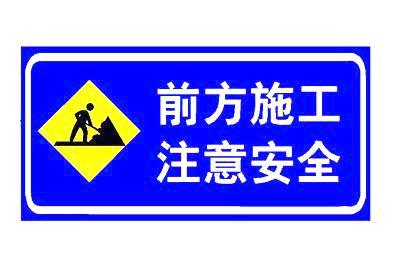sign: (23, 49, 368, 216)
